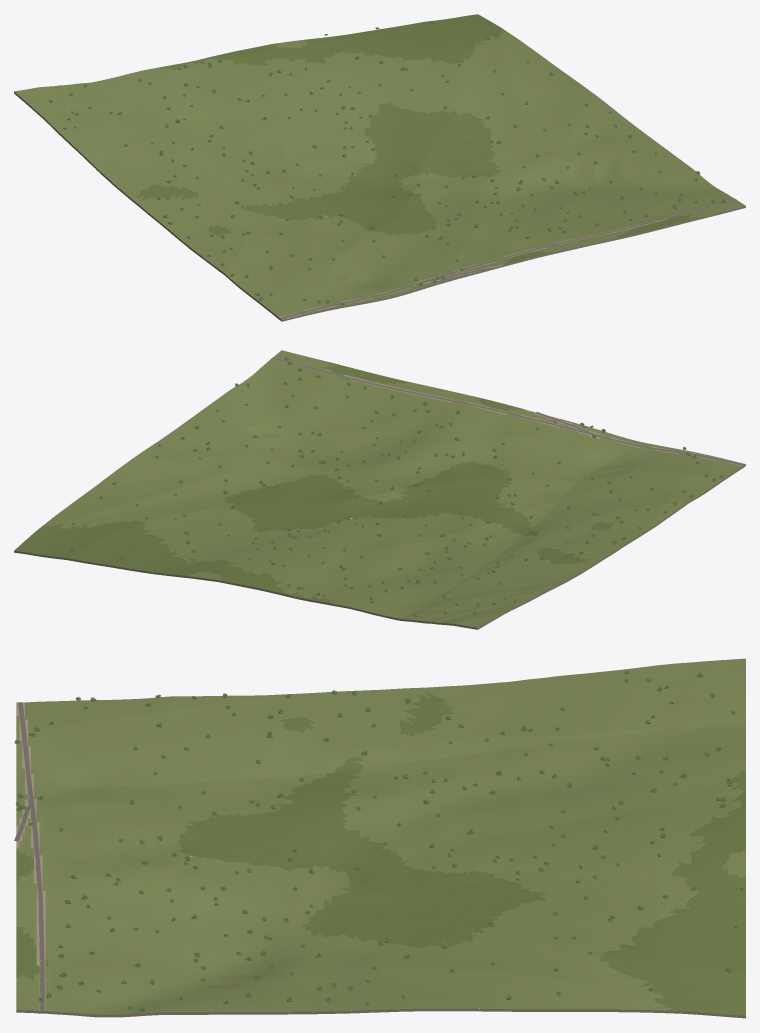
File: parca_+9_-2-yakin.glb
3 views of the same model, one above another, from view 1: azimuth 30°, elevation 25°; view 2: azimuth 150°, elevation 25°; view 3: azimuth 270°, elevation 25° (orthographic). The views are drawn at different scales.
Visible parts, largest first — view 1: parca_+9_-2_arazi, parca_+9_-2_bitkiler, parca_+9_-2_yollar; view 2: parca_+9_-2_arazi, parca_+9_-2_bitkiler, parca_+9_-2_yollar; view 3: parca_+9_-2_arazi, parca_+9_-2_bitkiler, parca_+9_-2_yollar.
Part boxes in pixels (<box>): parca_+9_-2_arazi: <box>14,14,745,321</box>; parca_+9_-2_bitkiler: <box>49,21,725,304</box>; parca_+9_-2_yollar: <box>280,199,736,319</box>; parca_+9_-2_arazi: <box>14,350,745,629</box>; parca_+9_-2_bitkiler: <box>70,357,723,620</box>; parca_+9_-2_yollar: <box>271,357,744,465</box>; parca_+9_-2_arazi: <box>16,658,745,1018</box>; parca_+9_-2_bitkiler: <box>14,670,743,1011</box>; parca_+9_-2_yollar: <box>14,702,44,1010</box>.
Size of the model in its own units: 1001 by 97.66 by 1003.
